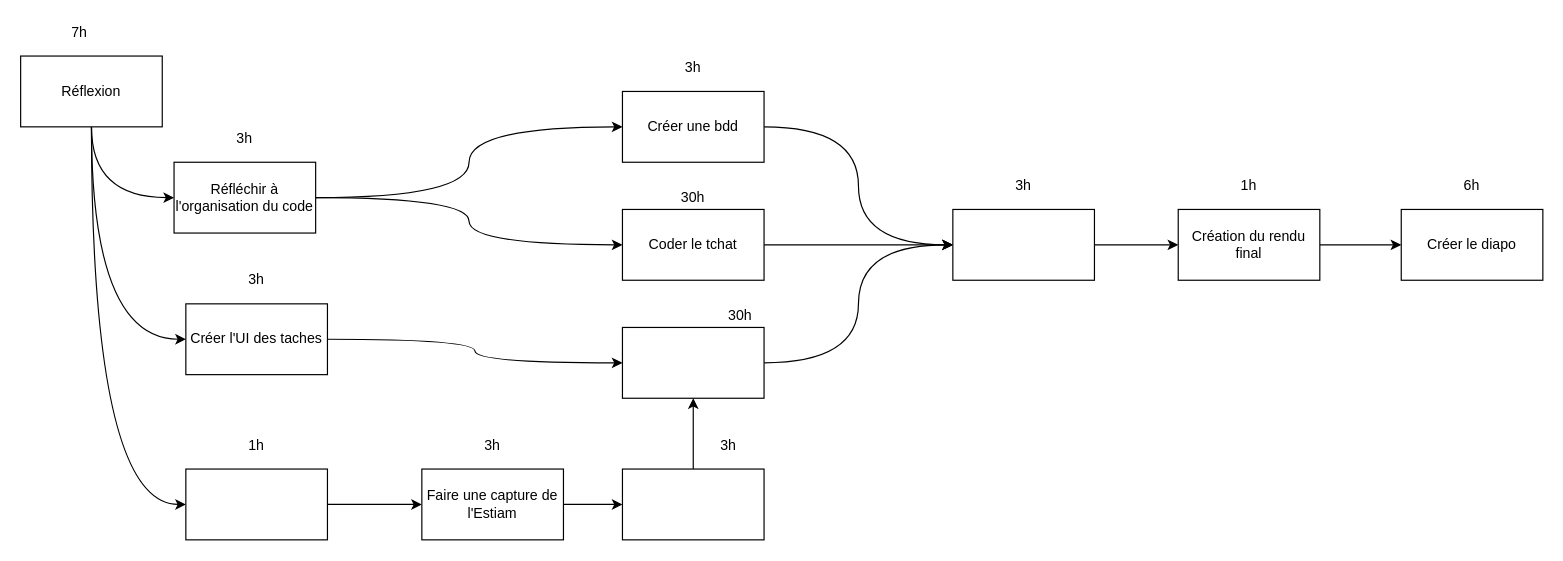
This 1563x561 diagram has some shape labels left out. Here are the shapes that lost their labels. From the top down, the centre of each, then its label:
At point (1023, 244): "Intégrer le back end et le front end".
At point (692, 362): "Coder les pages en HTML CSS".
At point (256, 504): "Choisir un programme de visite virtuelle".
At point (692, 504): "Générer la visite".
